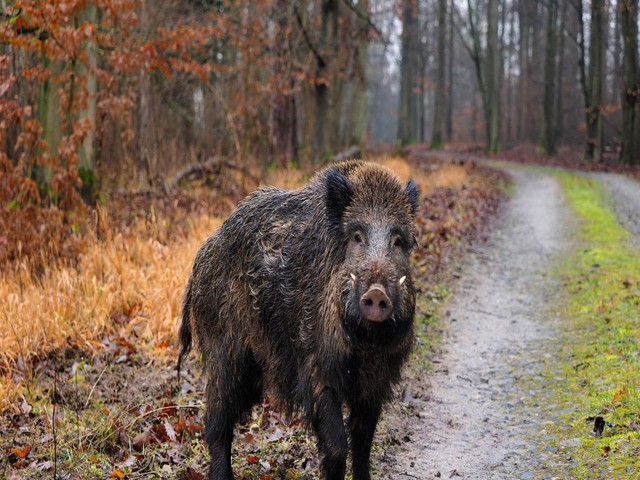Pig: (171, 155, 421, 468)
